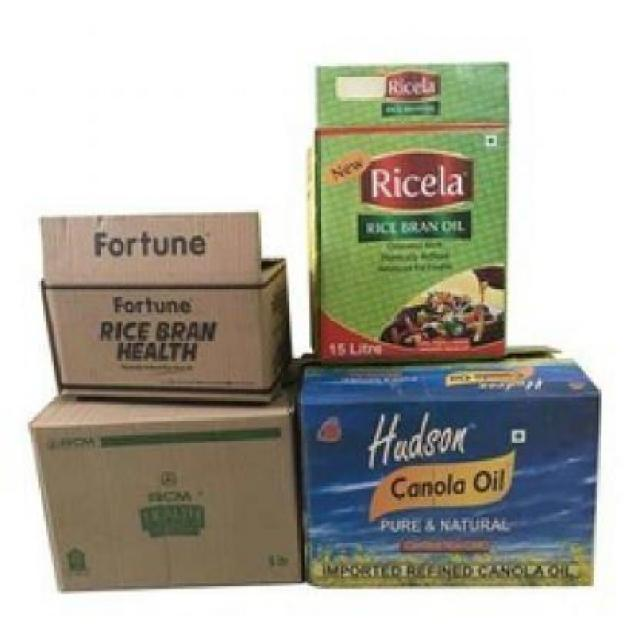box: (298, 360, 600, 594), (29, 360, 312, 590), (29, 217, 288, 398)
